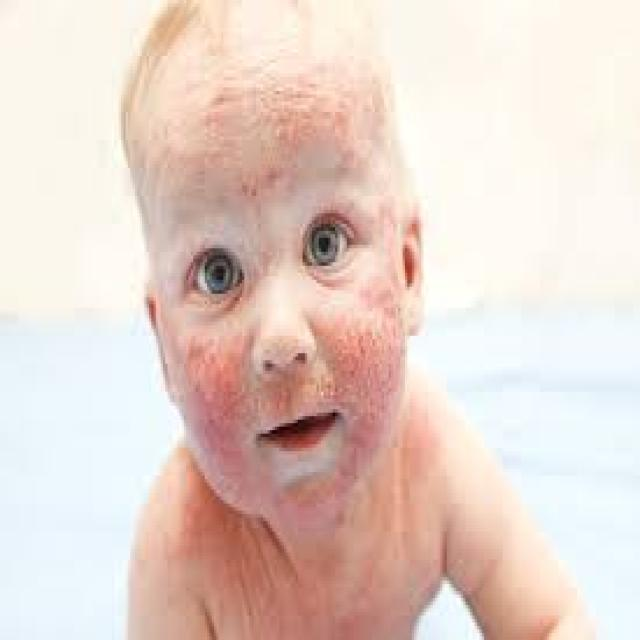Eczema: (189, 93, 408, 178), (171, 321, 247, 497), (322, 321, 421, 419)
